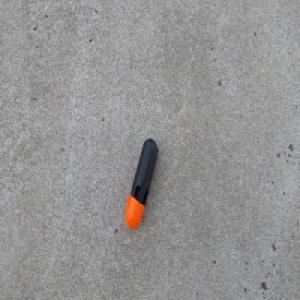PlasticPart: (125, 136, 158, 229)
